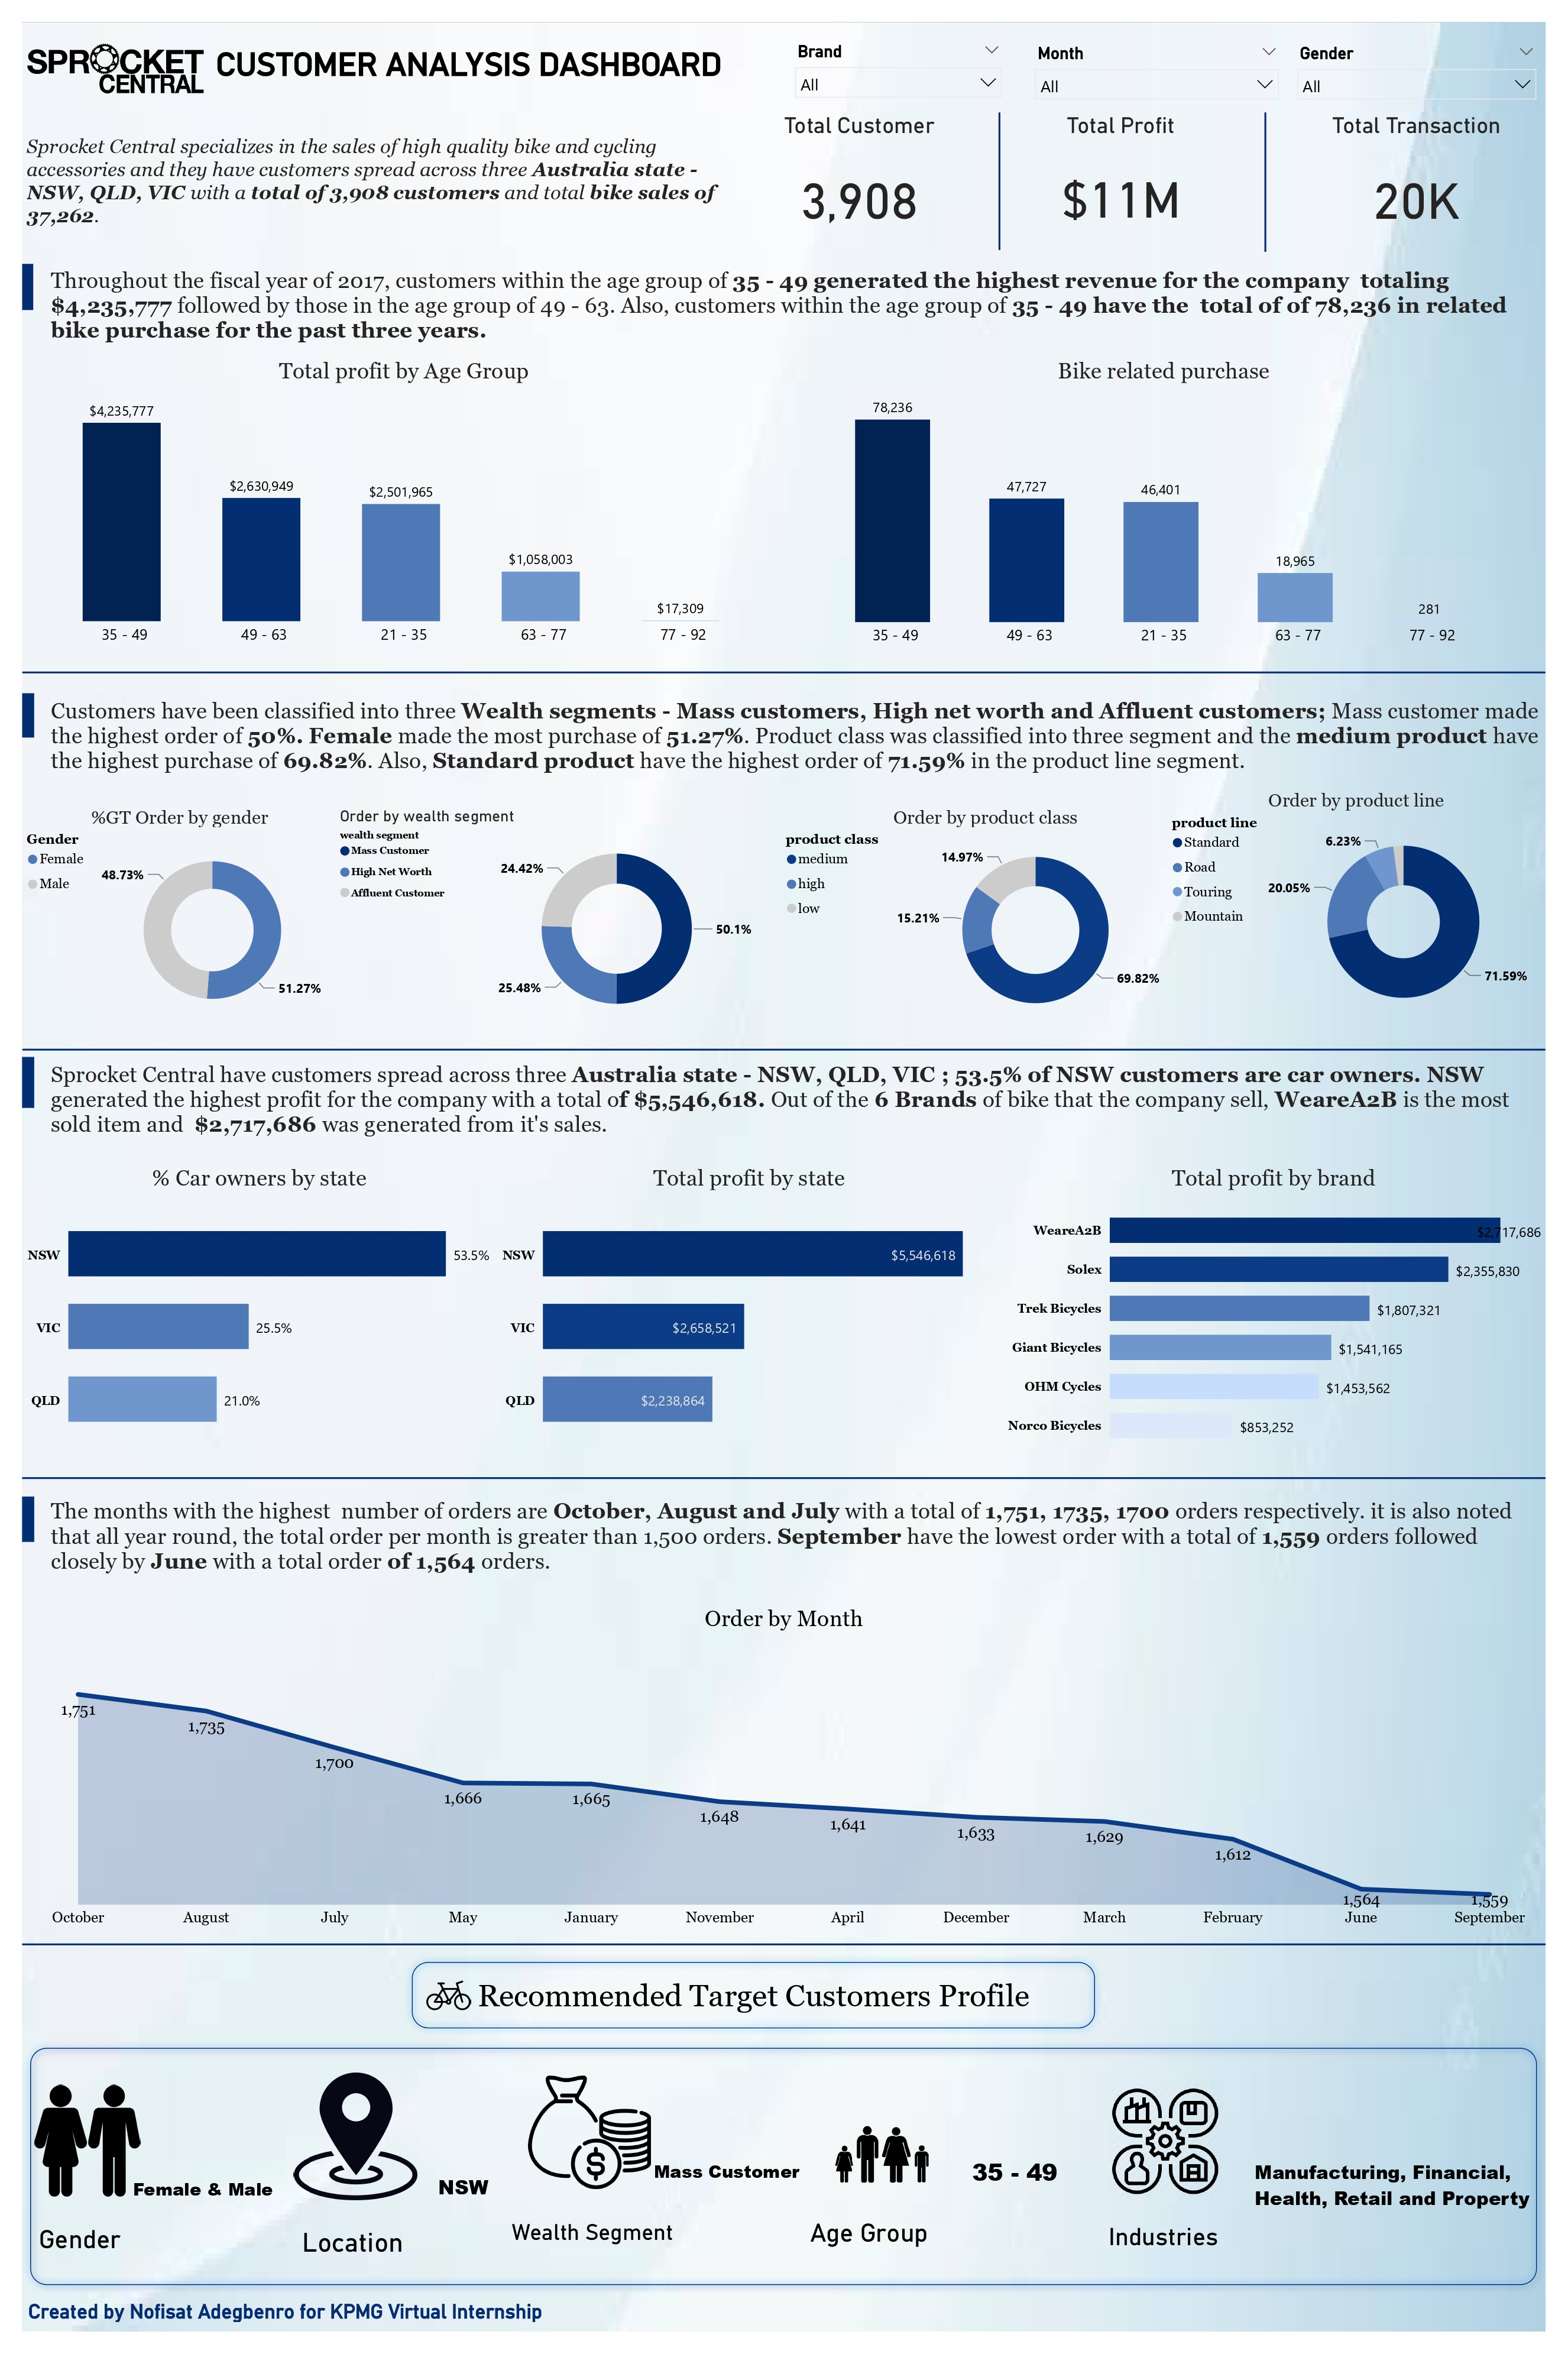

The dashboard page shown, as its layout file describes it:
{"tool":"powerbi","page":{"name":"Page 1","canvas":[1650,2500],"ordinal":0},"visuals":[{"type":"image","box":[0,15,206.7,81.7],"z":0},{"type":"barChart","title":"% Car owners by state","fields":{"Category":["Customer.state"],"Y":["Divide(All Measures.car owners, ScopedEval(All Measures.car owners, []))"]},"box":[0,1236.8,513.9,319.8],"z":0,"group":"g3"},{"type":"shape","box":[17.9,2205,260.4,215],"z":0,"group":"g5"},{"type":"image","box":[542.6,2205,143.5,158.8],"z":0,"group":"g6"},{"type":"shape","box":[852.6,2362.2,218.8,51.1],"z":0,"group":"g7"},{"type":"shape","box":[303.3,2371.7,163.3,48.3],"z":0,"group":"g8"},{"type":"shape","box":[207.2,0,599.5,89.8],"z":1000},{"type":"barChart","fields":{"Category":["Customer.state"],"Y":["All Measures.Total profit"]},"box":[513.9,1236.8,546.9,319.8],"z":1000,"group":"g3"},{"type":"image","box":[0,2227.5,140.1,131.1],"z":1000,"group":"g5"},{"type":"shape","box":[1010.1,2294.8,129.9,51.5],"z":1000,"group":"g7"},{"type":"shape","box":[426.6,2303.3,103.3,68.3],"z":1000,"group":"g8"},{"type":"shape","box":[530,2363.8,310.2,56.2],"z":1000,"group":"g6"},{"type":"slicer","fields":{"Values":["Transactions.brand"]},"box":[826.8,14.7,243.8,75.2],"z":2000},{"type":"barChart","fields":{"Category":["Transactions.brand"],"Y":["All Measures.Total profit"]},"box":[1060.8,1236.8,589.2,319.8],"z":2000,"group":"g3"},{"type":"shape","box":[674,2285,177.7,55.3],"z":2000,"group":"g6"},{"type":"shape","box":[120.1,2313.6,158.1,57.4],"z":2000,"group":"g5"},{"type":"slicer","fields":{"Values":["Transactions.Month"]},"box":[1087.2,16.5,284.2,73.3],"z":3000},{"type":"textbox","box":[25.7,1120.2,1624.3,101.6],"z":3000,"group":"g3"},{"type":"slicer","fields":{"Values":["Customer.gender"]},"box":[1371.3,16.5,278.7,80.7],"z":4000},{"type":"shape","box":[0,1120.2,13.2,54.9],"z":4000,"group":"g3"},{"type":"shape","box":[725.8,115.6,724.2,130.1],"z":5000},{"type":"card","title":"Total Profit","fields":{"Values":["All Measures.Total profit"]},"box":[1061.5,97.2,256.7,148.5],"z":6000},{"type":"card","title":"Total Customer","fields":{"Values":["All Measures.Total Customer"]},"box":[779.2,97.2,254.8,150.3],"z":7000},{"type":"card","title":"Total Transaction","fields":{"Values":["All Measures.Total Transaction"]},"box":[1386,97.2,247.5,150.3],"z":8000},{"type":"shape","box":[1043.2,97.2,31.2,148.5],"z":9000},{"type":"shape","box":[0,1556.5,1650,38.5],"z":10000},{"type":"shape","box":[1338.3,97.2,16.5,150.3],"z":11000},{"type":"shape","box":[0,696.7,1650,12.8],"z":12000},{"type":"textbox","box":[0,115.5,762.7,130.2],"z":13000},{"type":"group","id":"g1","title":"Group 1","box":[0,260.3,1650,423.5],"z":14000},{"type":"shape","box":[0,261.4,12,50],"z":15000},{"type":"donutChart","fields":{"Category":["Customer.gender"],"Y":["All Measures.Order"]},"box":[0,848.8,340.6,245.7],"z":16000,"group":"g2"},{"type":"shape","box":[0,1105.5,1650,12.8],"z":16000},{"type":"group","id":"g2","title":"Group 2","box":[0,726,1650,368.5],"z":17000},{"type":"donutChart","title":"Order by wealth segment","fields":{"Category":["Customer.wealth_segment"],"Y":["All Measures.Order"]},"box":[338.8,848.8,487.1,245.7],"z":17000,"group":"g2"},{"type":"donutChart","title":"Order by product line","fields":{"Category":["Transactions.product_line"],"Y":["All Measures.Order"]},"box":[1239.8,831.1,410.2,263.4],"z":18000,"group":"g2"},{"type":"group","id":"g3","title":"Group 3","box":[0,1120.2,1650,436.3],"z":18000},{"type":"areaChart","title":"Order by Month","fields":{"Category":["Transactions.Month"],"Y":["All Measures.NO Order"]},"box":[0,1713.9,1650,355.9],"z":18000,"group":"g4"},{"type":"donutChart","title":"Order by product class","fields":{"Category":["Transactions.product_class"],"Y":["All Measures.Order"]},"box":[822.3,848.8,443.2,245.7],"z":19000,"group":"g2"},{"type":"group","id":"g4","title":"Group 4","box":[0,1593.2,1650,476.7],"z":19000},{"type":"shape","box":[0,1595.8,13.2,49.8],"z":19000,"group":"g4"},{"type":"clusteredColumnChart","fields":{"Category":["Customer.Age Group"],"Y":["All Measures.Total profit"]},"box":[0,362.9,826.8,320.5],"z":20000,"group":"g1"},{"type":"textbox","box":[25.7,1593.2,1624.3,103.1],"z":20000,"group":"g4"},{"type":"shape","box":[0,2069.8,1650,22],"z":20000},{"type":"clusteredColumnChart","title":"Bike related purchase ","fields":{"Category":["Customer.Age Group"],"Y":["All Measures.Bike related purchase"]},"box":[838.7,363.6,794.8,320.2],"z":21000,"group":"g1"},{"type":"shape","box":[0,726,12.8,48.5],"z":21000,"group":"g2"},{"type":"shape","box":[414.4,2091.8,755.3,88],"z":21000,"group":"g10"},{"type":"shape","box":[0,2183.5,1650,275],"z":21000},{"type":"textbox","box":[25.7,260.3,1624.3,102.6],"z":22000,"group":"g1"},{"type":"textbox","box":[25.6,726,1624.4,122.8],"z":22000,"group":"g2"},{"type":"shape","box":[0,2455,570,45],"z":22000},{"type":"group","id":"g5","title":"Group 7","box":[0,2205,278.3,215],"z":23000},{"type":"image","box":[394.2,2106.5,135.7,58.7],"z":24000,"group":"g10"},{"type":"group","id":"g6","title":"Group 5","box":[530,2205,321.7,215],"z":24000},{"type":"group","id":"g7","title":"Group 8","box":[851.7,2228.3,288.3,185],"z":25000},{"type":"shape","box":[1169.2,2365.7,140.8,61.6],"z":25000,"group":"g9"},{"type":"group","id":"g8","title":"Group 6","box":[278.3,2215,251.7,205],"z":26000},{"type":"shape","box":[1310.7,2270.5,339.3,119.1],"z":26000,"group":"g9"},{"type":"group","id":"g9","title":"Group 9","box":[1166,2227.5,484,199.8],"z":27000},{"type":"group","id":"g10","title":"Group 10","box":[394.2,2091.8,775.5,88],"z":28000},{"type":"image","box":[1166,2227.5,143.9,131.6],"z":31000,"group":"g9"},{"type":"image","box":[851.7,2228.3,158.4,159.5],"z":31001,"group":"g7"},{"type":"image","box":[278.3,2215,165,148.3],"z":31003,"group":"g8"}]}

Visuals, with their boxes in screenshot pixels (x1, y1, x2, y2):
image: [x1=61, y1=99, x2=247, y2=173]
"% Car owners by state" barChart: [x1=61, y1=1194, x2=521, y2=1480]
shape: [x1=77, y1=2061, x2=310, y2=2253]
image: [x1=547, y1=2061, x2=676, y2=2203]
shape: [x1=825, y1=2201, x2=1021, y2=2248]
shape: [x1=333, y1=2210, x2=479, y2=2253]
shape: [x1=247, y1=86, x2=784, y2=166]
barChart - Customer.state x All Measures.Total profit: [x1=521, y1=1194, x2=1011, y2=1480]
image: [x1=61, y1=2081, x2=187, y2=2198]
shape: [x1=966, y1=2141, x2=1082, y2=2187]
shape: [x1=443, y1=2149, x2=536, y2=2210]
shape: [x1=536, y1=2203, x2=814, y2=2253]
slicer - Transactions.brand: [x1=802, y1=99, x2=1020, y2=166]
barChart - Transactions.brand x All Measures.Total profit: [x1=1011, y1=1194, x2=1539, y2=1480]
shape: [x1=665, y1=2132, x2=824, y2=2182]
shape: [x1=169, y1=2158, x2=310, y2=2210]
slicer - Transactions.Month: [x1=1035, y1=101, x2=1290, y2=166]
textbox: [x1=85, y1=1089, x2=1539, y2=1180]
slicer - Customer.gender: [x1=1290, y1=101, x2=1539, y2=173]
shape: [x1=61, y1=1089, x2=73, y2=1138]
shape: [x1=711, y1=189, x2=1360, y2=306]
"Total Profit" card: [x1=1012, y1=173, x2=1242, y2=306]
"Total Customer" card: [x1=759, y1=173, x2=987, y2=307]
"Total Transaction" card: [x1=1303, y1=173, x2=1524, y2=307]
shape: [x1=996, y1=173, x2=1023, y2=306]
shape: [x1=61, y1=1480, x2=1539, y2=1514]
shape: [x1=1260, y1=173, x2=1275, y2=307]
shape: [x1=61, y1=710, x2=1539, y2=721]
textbox: [x1=61, y1=189, x2=744, y2=306]
"Group 1" group: [x1=61, y1=319, x2=1539, y2=698]
shape: [x1=61, y1=320, x2=72, y2=365]
donutChart - Customer.gender x All Measures.Order: [x1=61, y1=846, x2=367, y2=1066]
shape: [x1=61, y1=1076, x2=1539, y2=1087]
"Group 2" group: [x1=61, y1=736, x2=1539, y2=1066]
"Order by wealth segment" donutChart: [x1=365, y1=846, x2=801, y2=1066]
"Order by product line" donutChart: [x1=1172, y1=830, x2=1539, y2=1066]
"Group 3" group: [x1=61, y1=1089, x2=1539, y2=1480]
"Order by Month" areaChart: [x1=61, y1=1621, x2=1539, y2=1939]
"Order by product class" donutChart: [x1=798, y1=846, x2=1195, y2=1066]
"Group 4" group: [x1=61, y1=1513, x2=1539, y2=1939]
shape: [x1=61, y1=1515, x2=73, y2=1560]
clusteredColumnChart - Customer.Age Group x All Measures.Total profit: [x1=61, y1=411, x2=802, y2=698]
textbox: [x1=85, y1=1513, x2=1539, y2=1605]
shape: [x1=61, y1=1939, x2=1539, y2=1960]
"Bike related purchase " clusteredColumnChart: [x1=812, y1=412, x2=1524, y2=698]
shape: [x1=61, y1=736, x2=73, y2=779]
shape: [x1=432, y1=1960, x2=1109, y2=2038]
shape: [x1=61, y1=2042, x2=1539, y2=2288]
textbox: [x1=85, y1=319, x2=1539, y2=411]
textbox: [x1=84, y1=736, x2=1539, y2=846]
shape: [x1=61, y1=2285, x2=572, y2=2325]
"Group 7" group: [x1=61, y1=2061, x2=310, y2=2253]
image: [x1=414, y1=1973, x2=536, y2=2025]
"Group 5" group: [x1=536, y1=2061, x2=824, y2=2253]
"Group 8" group: [x1=824, y1=2081, x2=1082, y2=2248]
shape: [x1=1109, y1=2204, x2=1235, y2=2260]
"Group 6" group: [x1=310, y1=2070, x2=536, y2=2253]
shape: [x1=1235, y1=2119, x2=1539, y2=2226]
"Group 9" group: [x1=1106, y1=2081, x2=1539, y2=2260]
"Group 10" group: [x1=414, y1=1960, x2=1109, y2=2038]
image: [x1=1106, y1=2081, x2=1235, y2=2198]
image: [x1=824, y1=2081, x2=966, y2=2225]
image: [x1=310, y1=2070, x2=458, y2=2203]
